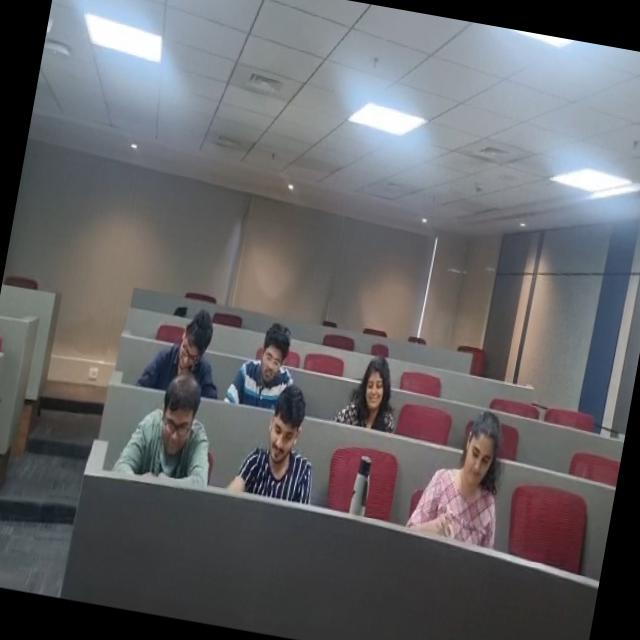cheating: (402, 384, 531, 559), (225, 394, 335, 515), (340, 348, 412, 438)
non-cheating: (120, 361, 224, 500), (218, 294, 320, 413), (132, 300, 239, 400)
